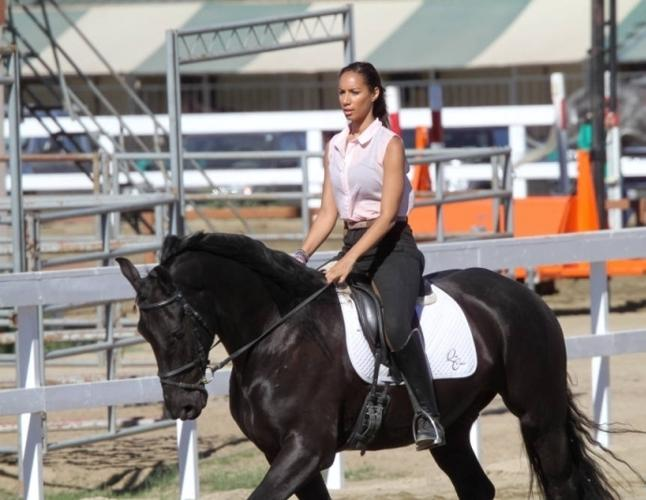person: (293, 63, 449, 450)
